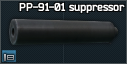PP-91-01 Kedr-B 9x18PM sound suppressor: (0, 0, 127, 64)
